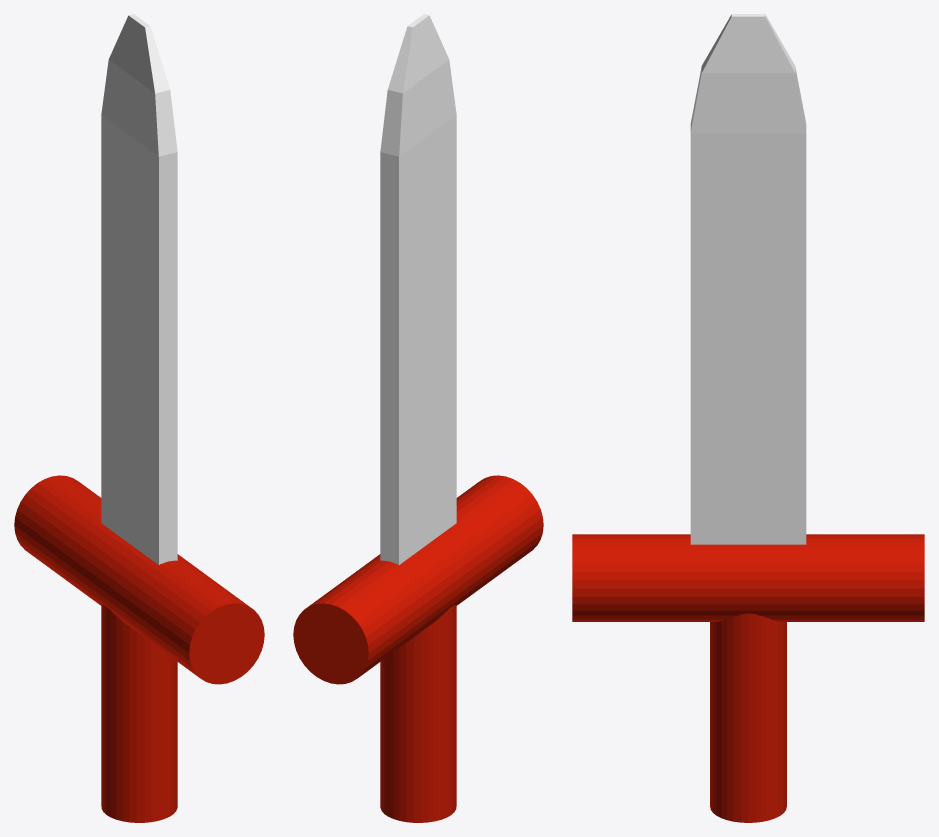
The model's file is sword of doom.obj.
3 renders of one model, left to right at view 1: azimuth 30°, elevation 25°; view 2: azimuth 150°, elevation 25°; view 3: azimuth 270°, elevation 25°, orthographic.
Visible parts, largest first — view 1: Cylinder; view 2: Cylinder; view 3: Cylinder.
Part boxes in pixels (x1,y1,x2,y2): Cylinder: [14, 14, 264, 822]; Cylinder: [293, 14, 543, 822]; Cylinder: [572, 14, 924, 822].
Bounding box in the file's own units: 0.6637 × 6.61 × 2.66.
